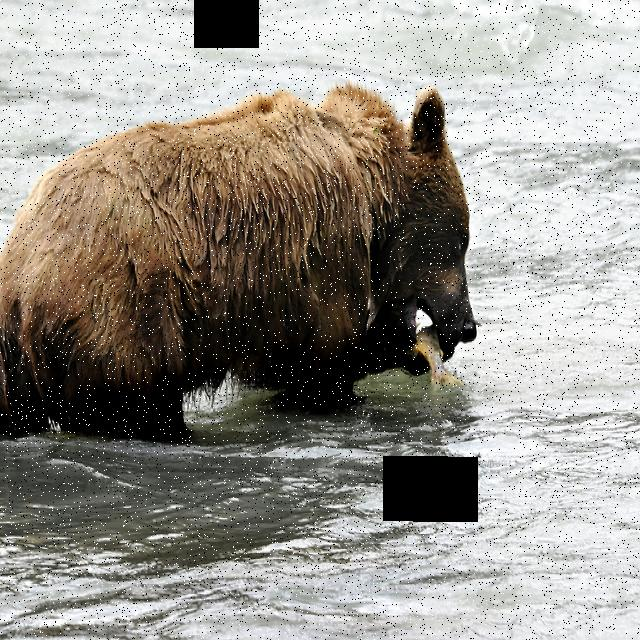Bear: (2, 80, 492, 447)
